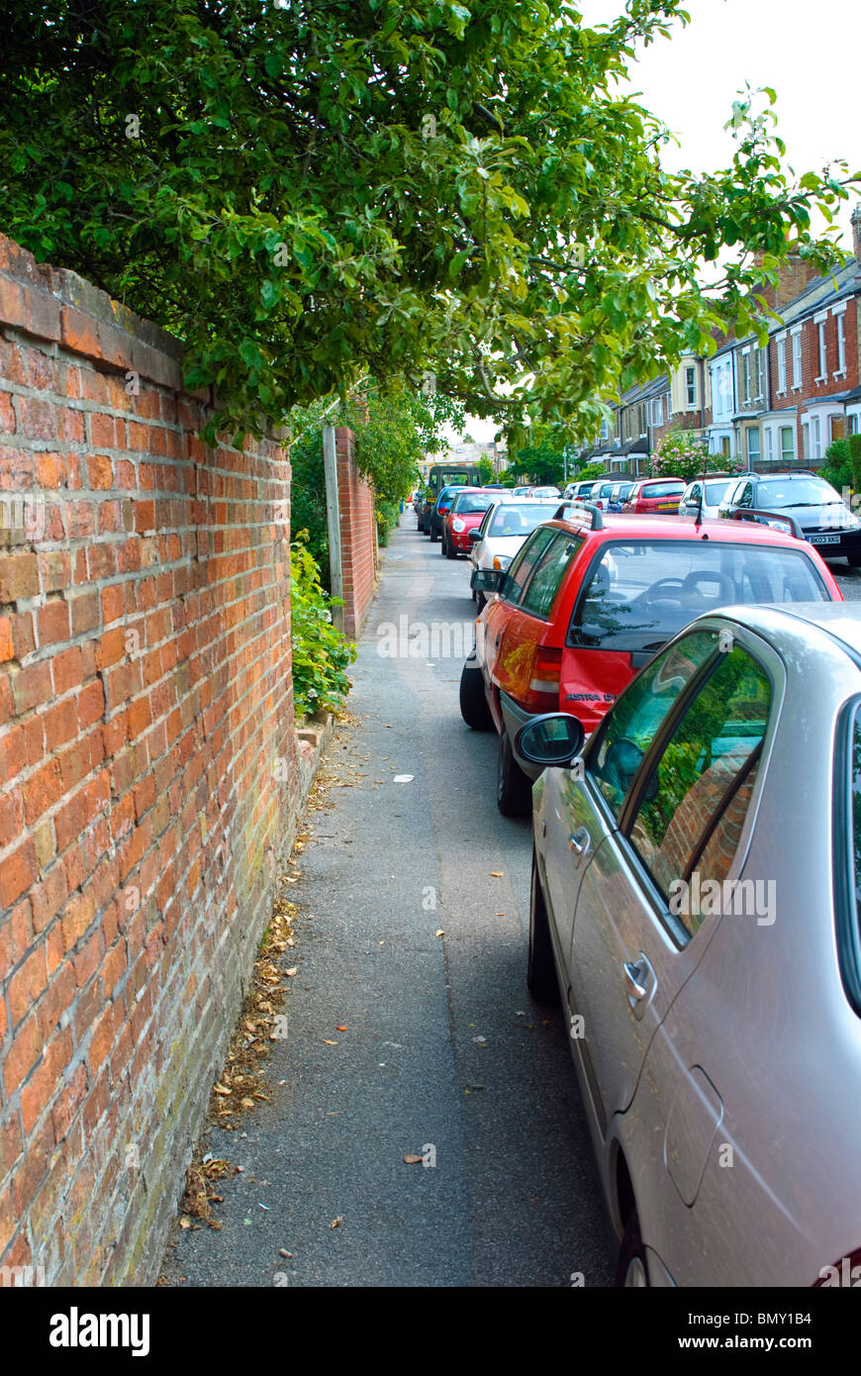Car: (523, 588, 861, 1278), (462, 489, 849, 755), (723, 459, 861, 565)
